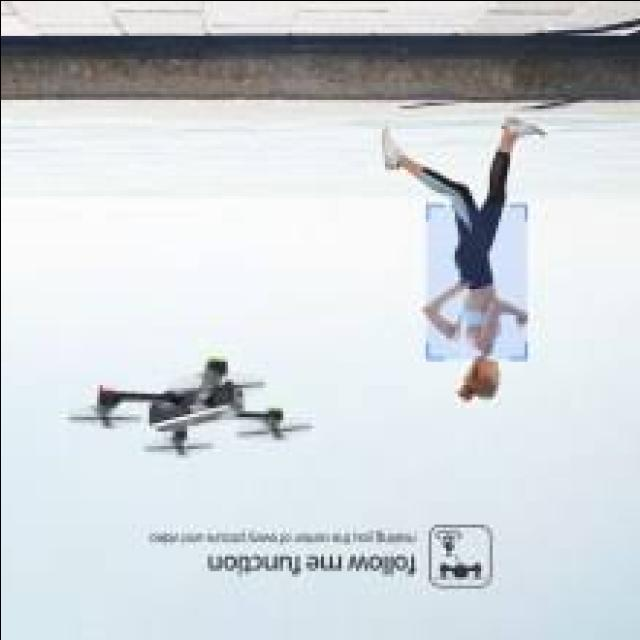drone: (46, 346, 324, 476)
